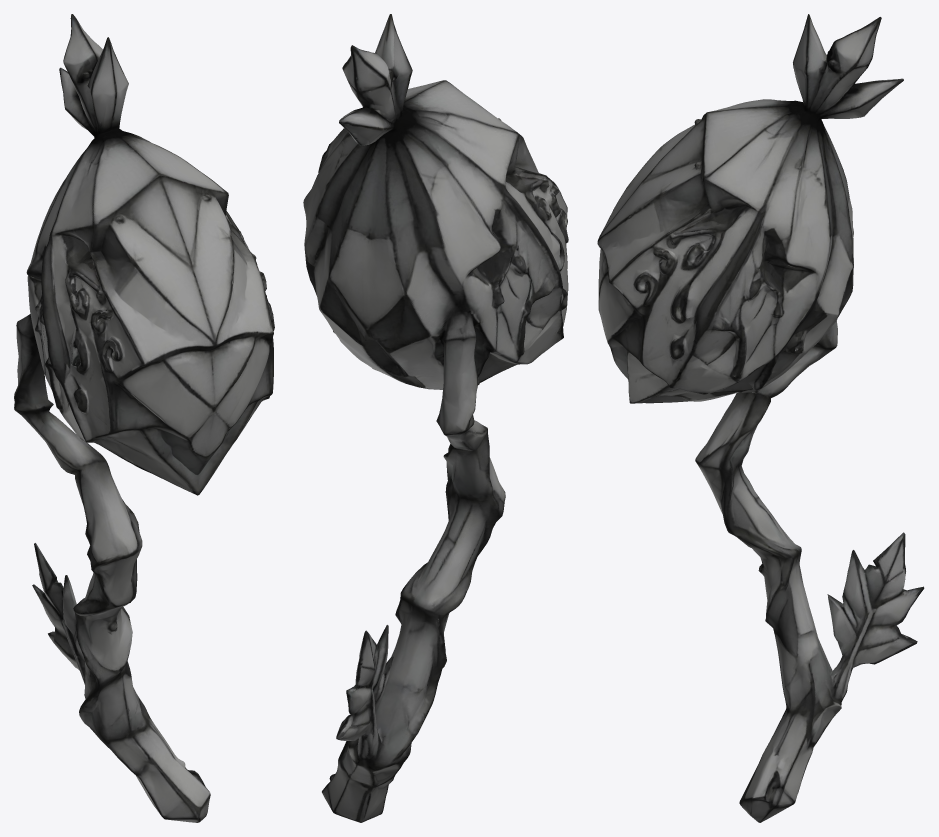
Rendered from pomegranate+3d+model+1k.glb.
3 renders of one model, left to right at view 1: azimuth 30°, elevation 25°; view 2: azimuth 150°, elevation 25°; view 3: azimuth 270°, elevation 25°, orthographic. The views are drawn at different scales.
Parts seen in each view (by area): view 1: tripo_node_c3ccbe87-2ac7-4f6b-abae-375b7ec6fcda; view 2: tripo_node_c3ccbe87-2ac7-4f6b-abae-375b7ec6fcda; view 3: tripo_node_c3ccbe87-2ac7-4f6b-abae-375b7ec6fcda.
Boxes of the visible parts, box(x1,y1,x2,y2) form: tripo_node_c3ccbe87-2ac7-4f6b-abae-375b7ec6fcda: box(14, 14, 274, 822); tripo_node_c3ccbe87-2ac7-4f6b-abae-375b7ec6fcda: box(303, 14, 568, 822); tripo_node_c3ccbe87-2ac7-4f6b-abae-375b7ec6fcda: box(597, 14, 924, 822).
Bounding box in the file's own units: 0.2906 × 1 × 0.3814.
Materials: 1 (1 with a texture image).
